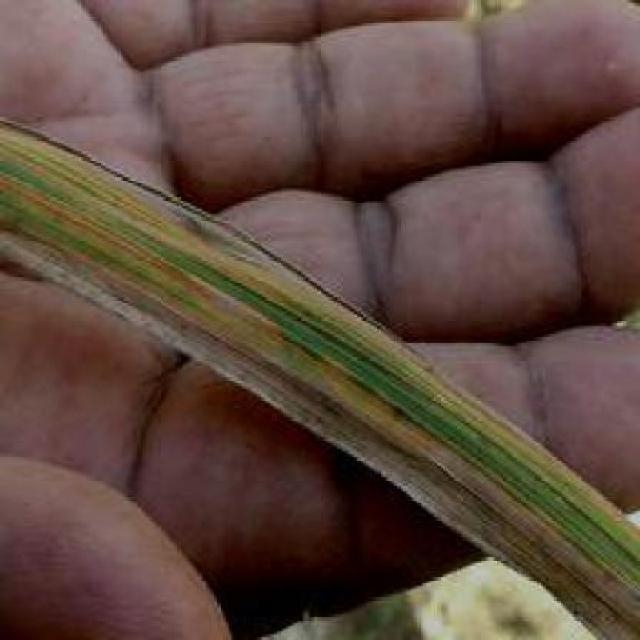Brown_Spot: (6, 106, 580, 552)
